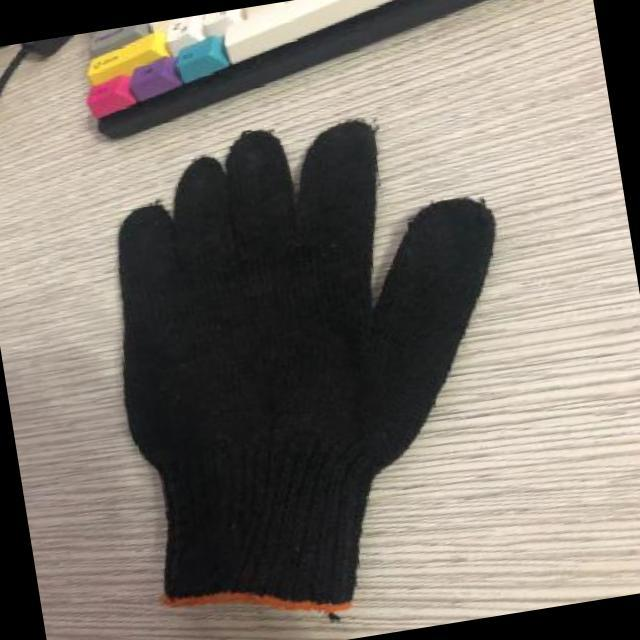glove: (112, 124, 492, 617)
